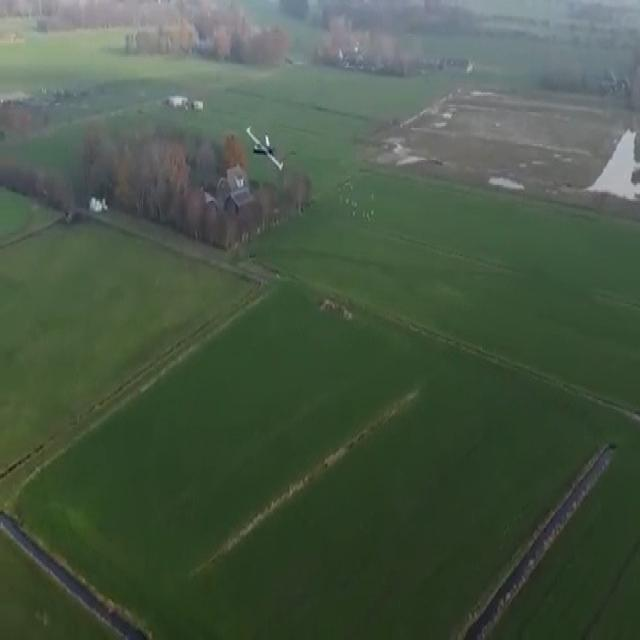drones: (242, 116, 289, 179)
